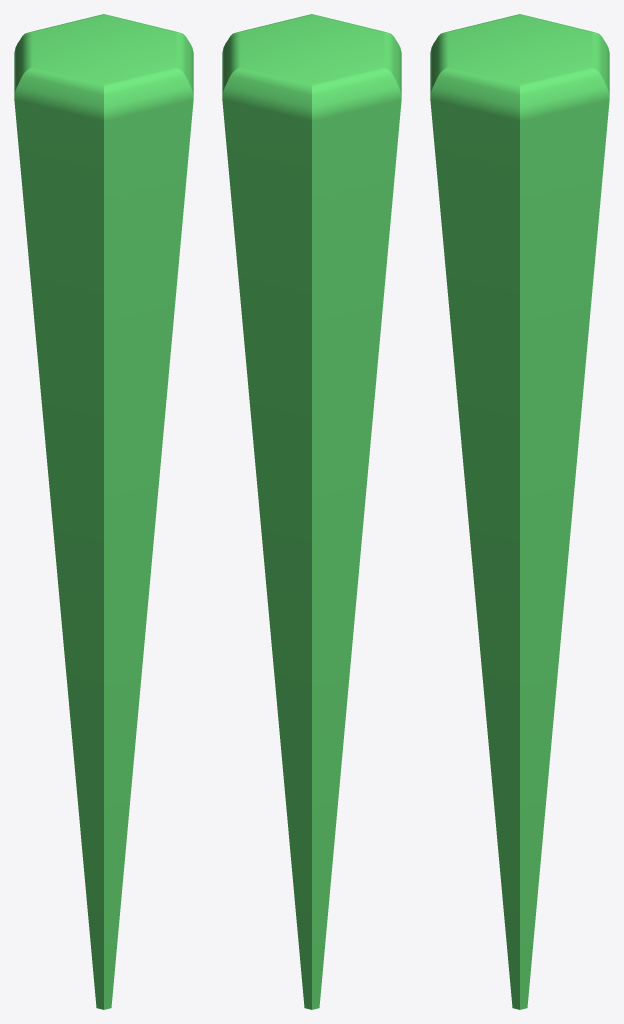
File: ValidTile.glb
The picture shows the model from 3 angles, left to right: view 1: azimuth 30°, elevation 25°; view 2: azimuth 150°, elevation 25°; view 3: azimuth 270°, elevation 25°; orthographic projection.
Parts seen in each view (by area): view 1: Simple Tile.001; view 2: Simple Tile.001; view 3: Simple Tile.001.
Boxes of the visible parts, bbox=[...] form: Simple Tile.001: bbox=[14, 14, 193, 1009]; Simple Tile.001: bbox=[222, 14, 401, 1009]; Simple Tile.001: bbox=[430, 14, 609, 1009].
Bounding box in the file's own units: 1.96 × 10 × 1.7.
